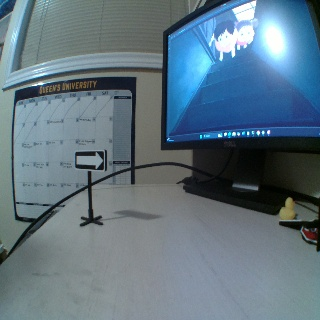sign_oneway_right: (74, 150, 108, 172)
